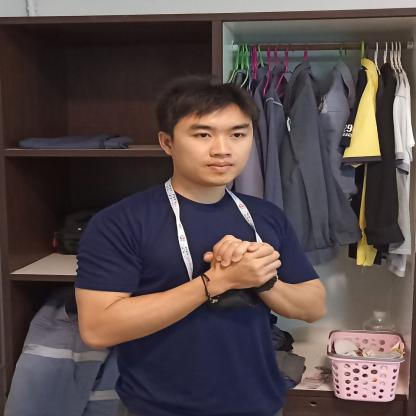Grieve: (127, 220, 343, 320)
